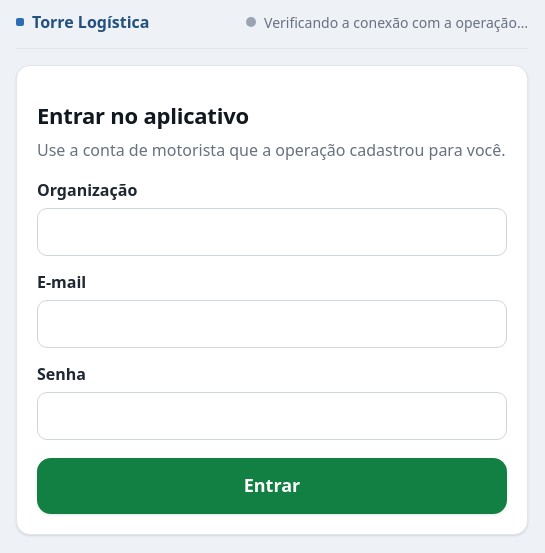
Test: PWA do motorista › login pelo canal do motorista abre a rota do dia
In the field labelled "Organização": point(272, 232) [37,208,507,256], type "transportadora-aurora"
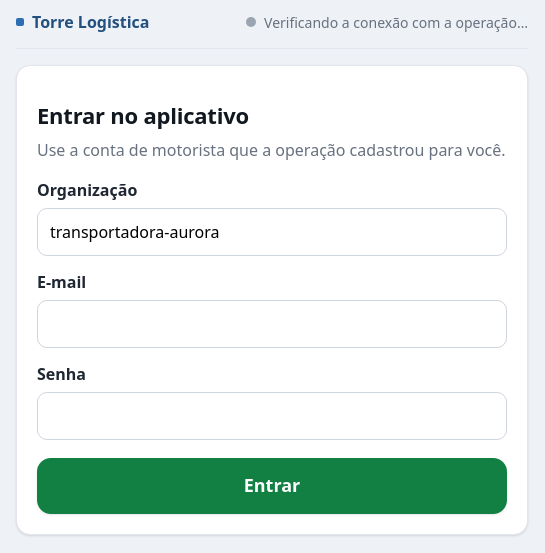
In the field labelled "E-mail": point(272, 324) [37,300,507,348], type "rafael@aurora.test"
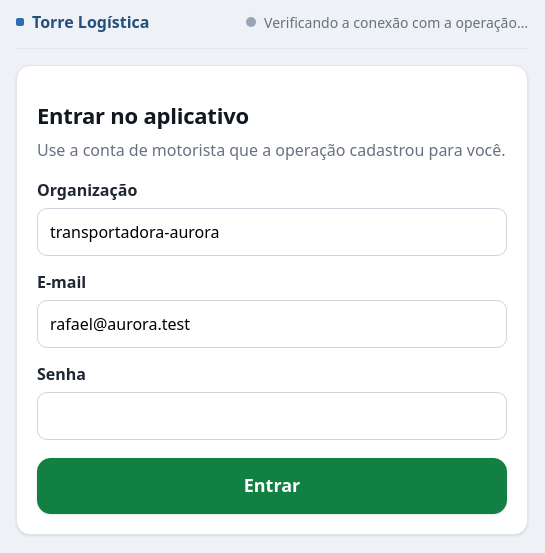
In the password field labelled "Senha": point(272, 416) [37,392,507,440], type "senha-bem-comprida"
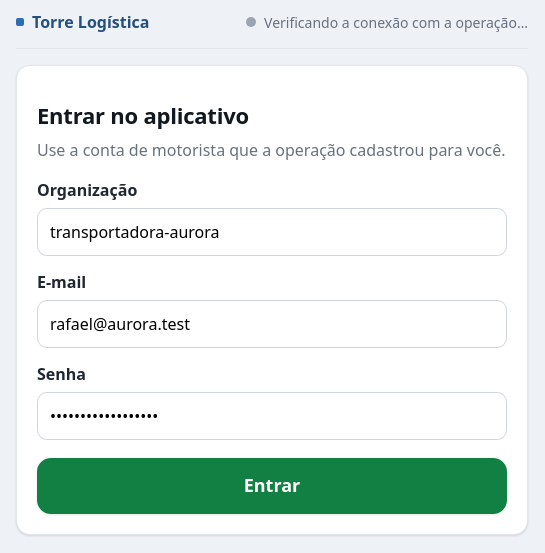
Click the button "Entrar": point(272, 486) [37,458,507,514]
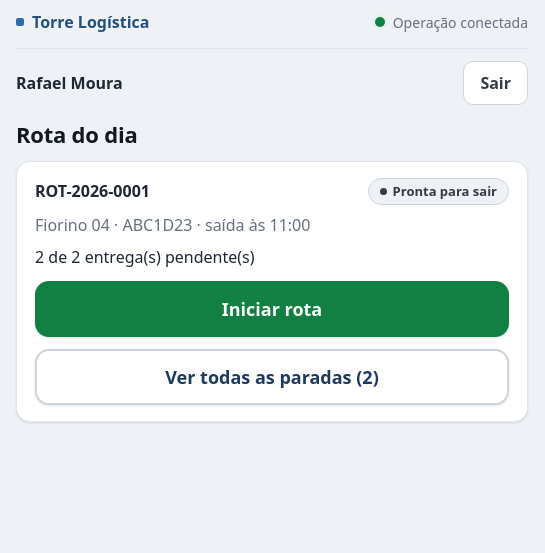
Result: the heading "Rota do dia" is shown at [16,119,138,149]
